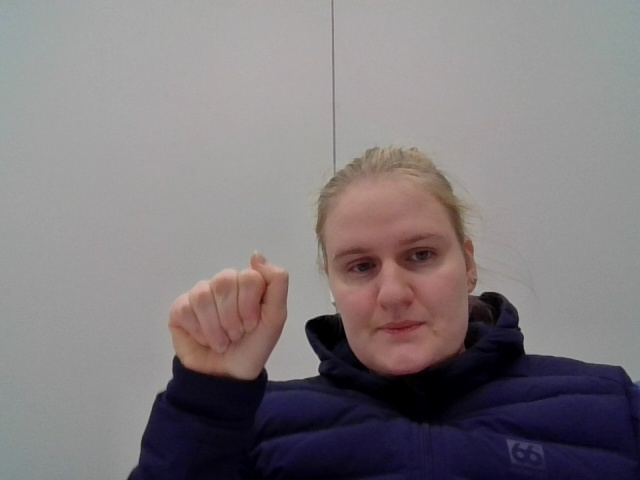down: (139, 253, 303, 400)
